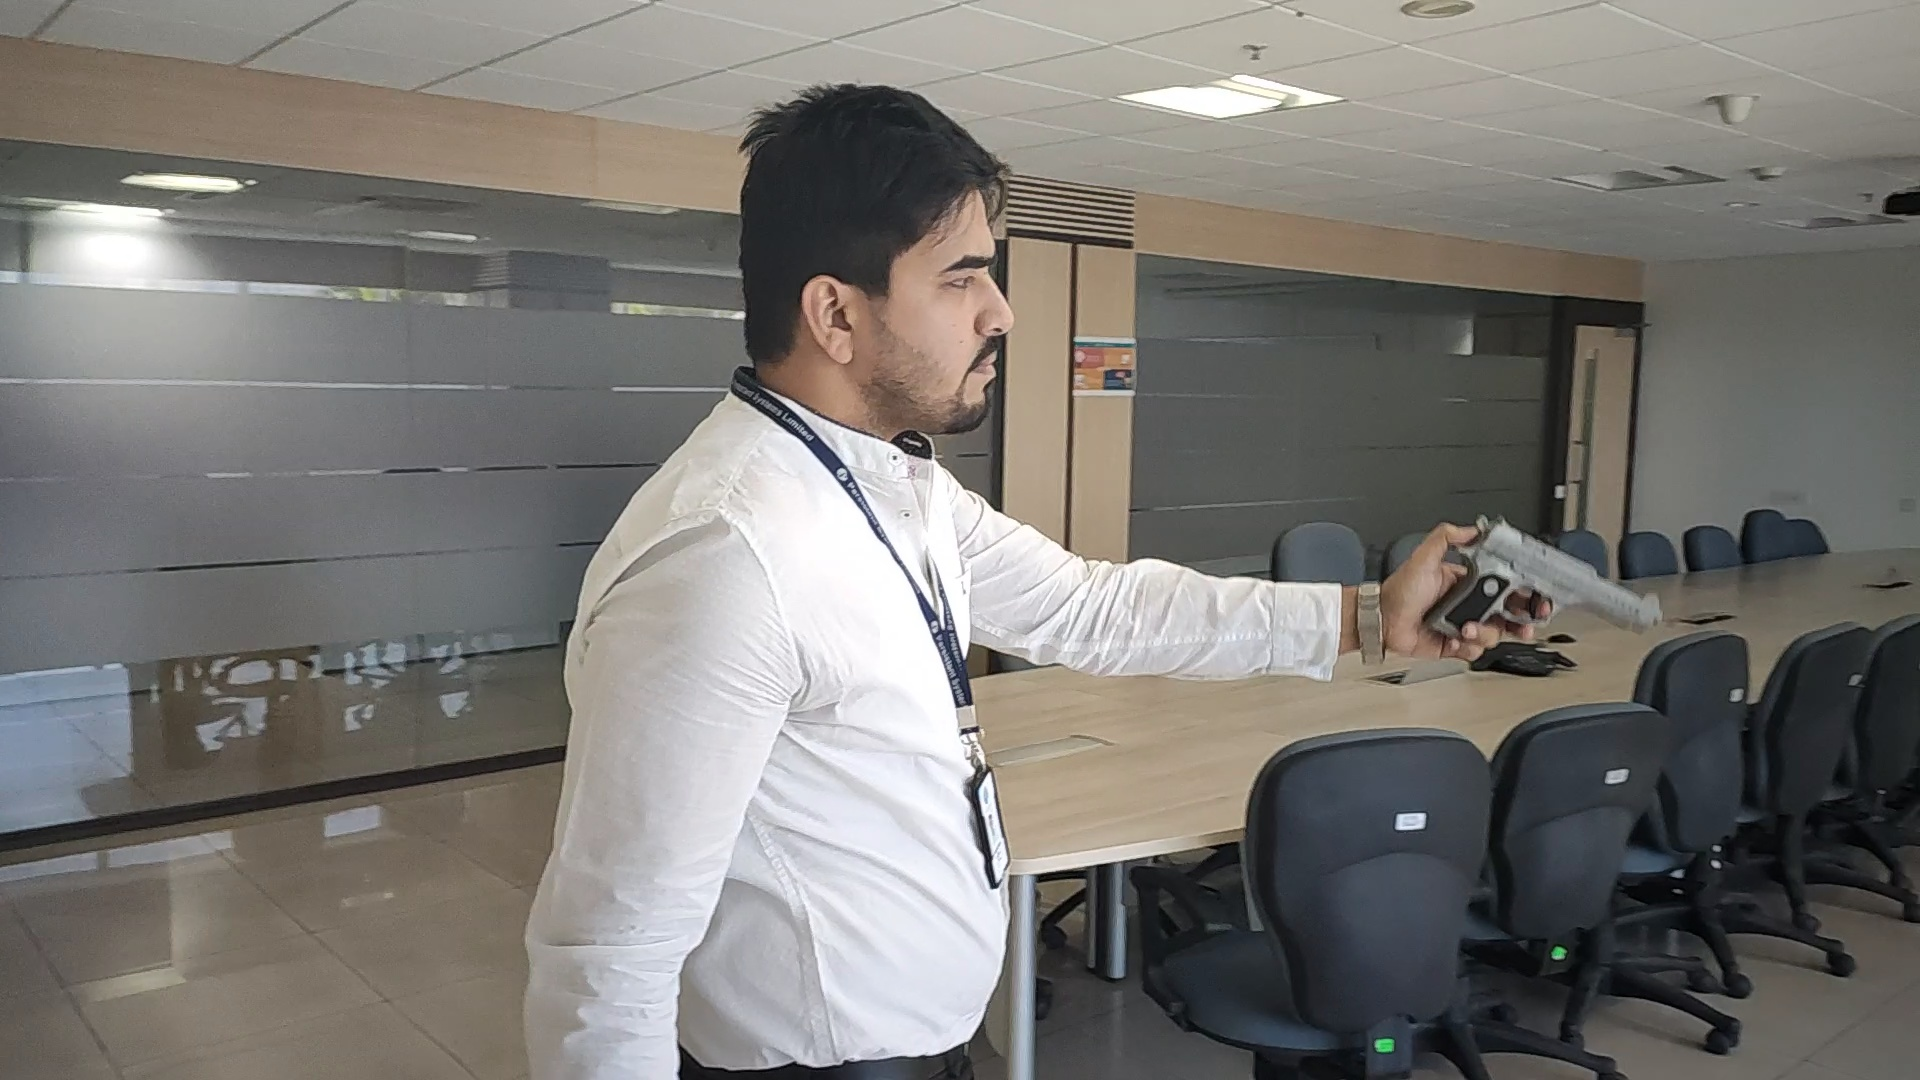gun: (1429, 516, 1660, 647)
